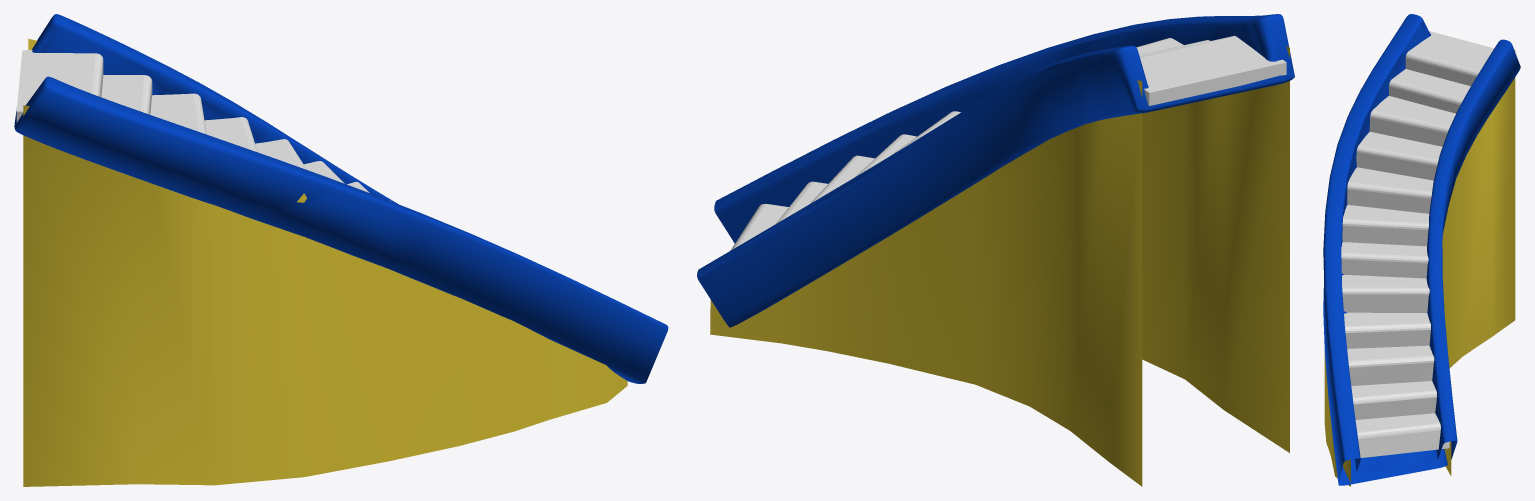
The model's file is SM_HUB_Stairs_Right.fbx.
3 views of the same model, side by side, from view 1: azimuth 30°, elevation 25°; view 2: azimuth 150°, elevation 25°; view 3: azimuth 270°, elevation 25° (orthographic). The views are drawn at different scales.
Parts seen in each view (by area): view 1: SM_HUB_Stairs_Right; view 2: SM_HUB_Stairs_Right; view 3: SM_HUB_Stairs_Right.
Boxes of the visible parts, bbox=[...] form: SM_HUB_Stairs_Right: bbox=[14, 14, 668, 486]; SM_HUB_Stairs_Right: bbox=[697, 14, 1294, 486]; SM_HUB_Stairs_Right: bbox=[1323, 14, 1520, 486].
Bounding box in the file's own units: 1482 × 958 × 597.
